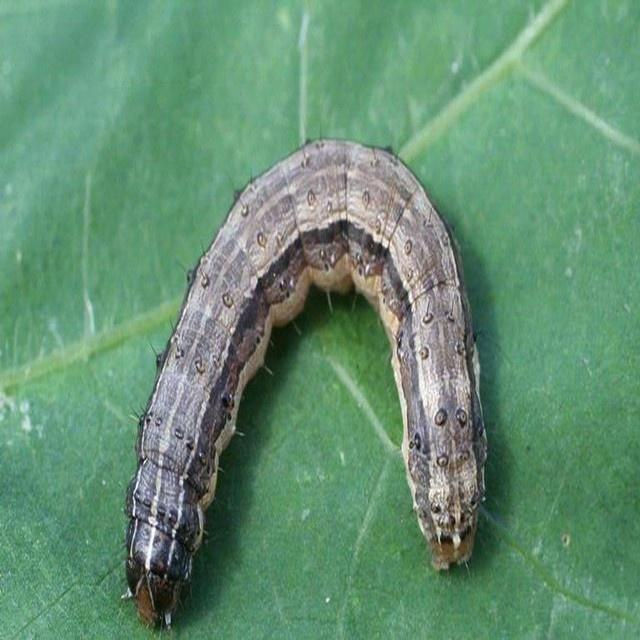yellow-stem-borer-larva: (85, 115, 511, 631)
